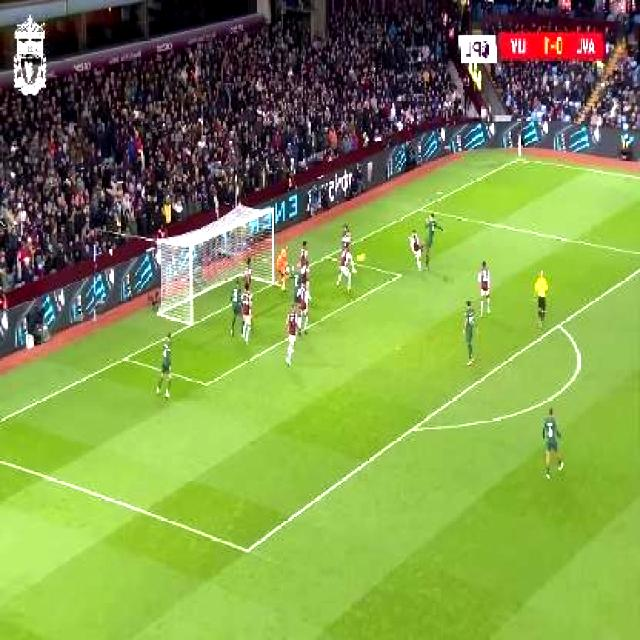bigarea_bottom_inner: (238, 534, 258, 564)
bigarea_top_outter: (415, 200, 428, 215)
bottom_arc_area_intersection: (405, 415, 423, 440)
corner: (514, 150, 531, 164)
smallarea_bottom_inner: (198, 371, 216, 395)
smallarea_bottom_outter: (118, 348, 134, 366)
smallarea_top_inner: (394, 265, 408, 283)
smallarea_top_outter: (322, 246, 336, 263)
top_arc_area_intersection: (550, 314, 568, 335)
